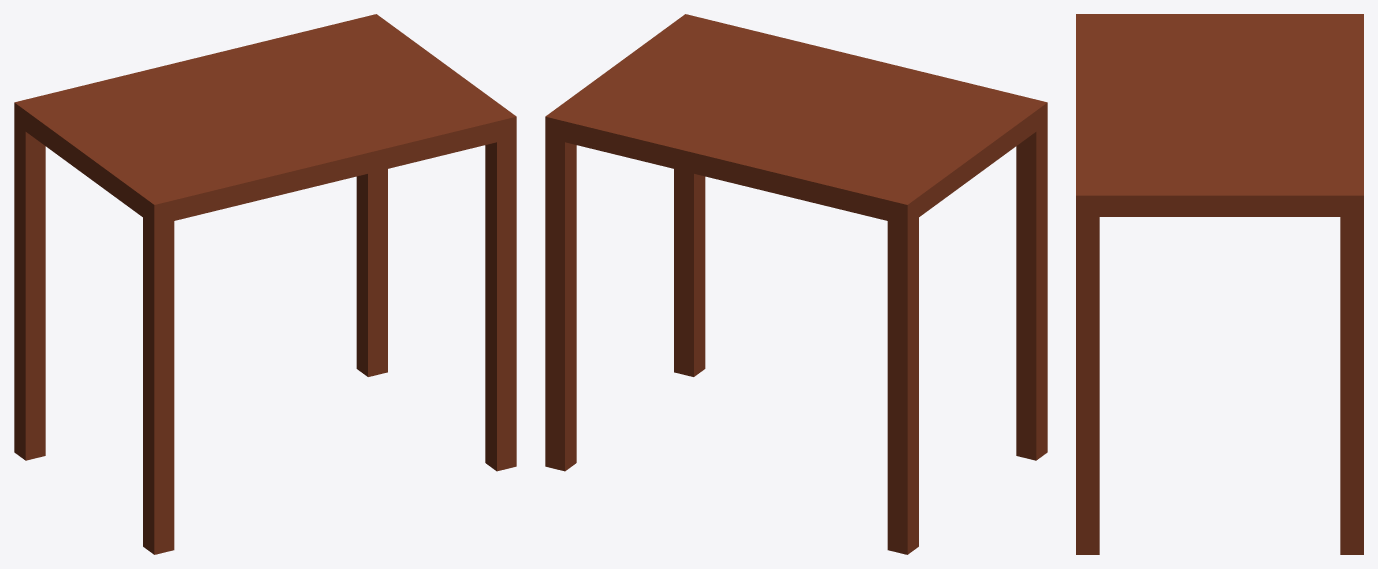
The model's file is Table.dae.
3 views of the same model, side by side, from view 1: azimuth 30°, elevation 25°; view 2: azimuth 150°, elevation 25°; view 3: azimuth 270°, elevation 25° (orthographic). The views are drawn at different scales.
Parts seen in each view (by area): view 1: ID2; view 2: ID2; view 3: ID2.
Boxes of the visible parts, x1,y1,x2,y2 form: ID2: [14, 14, 516, 554]; ID2: [545, 14, 1047, 554]; ID2: [1076, 14, 1363, 554].
Size of the model in its own units: 0.91 by 0.61 by 0.84.
